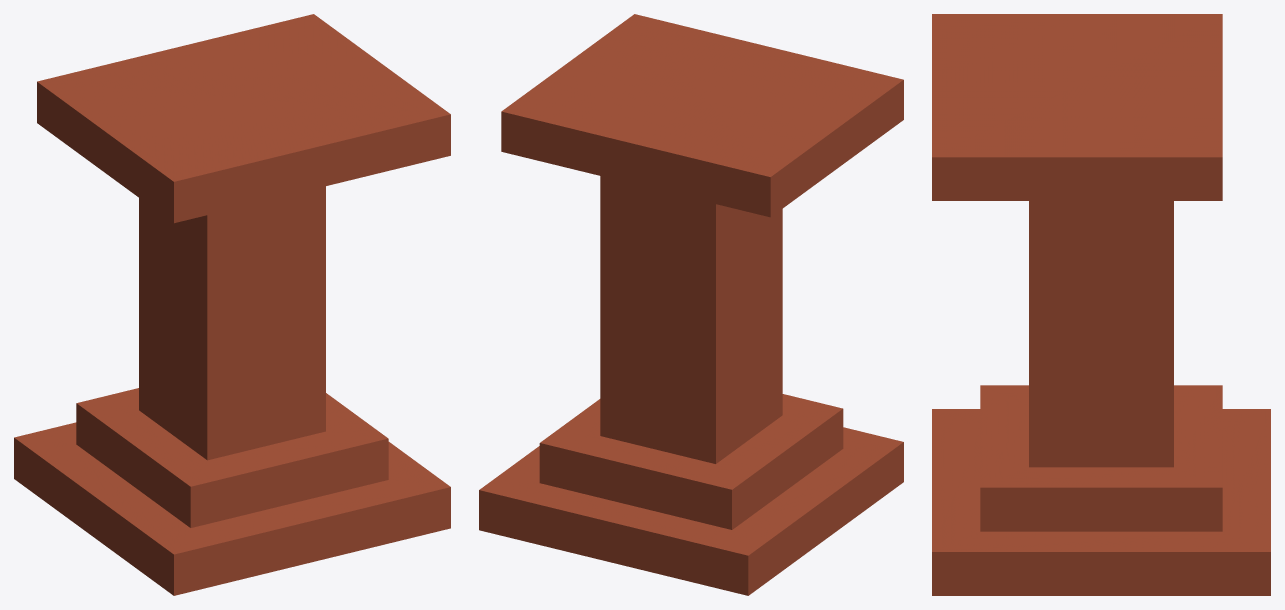
The model's file is altar_b_a.obj.
The picture shows the model from 3 angles, left to right: view 1: azimuth 30°, elevation 25°; view 2: azimuth 150°, elevation 25°; view 3: azimuth 270°, elevation 25°; orthographic projection. The views are drawn at different scales.
Bounding box in the file's own units: 0.7 × 1 × 0.7.
Materials: 1 (1 with a texture image).
